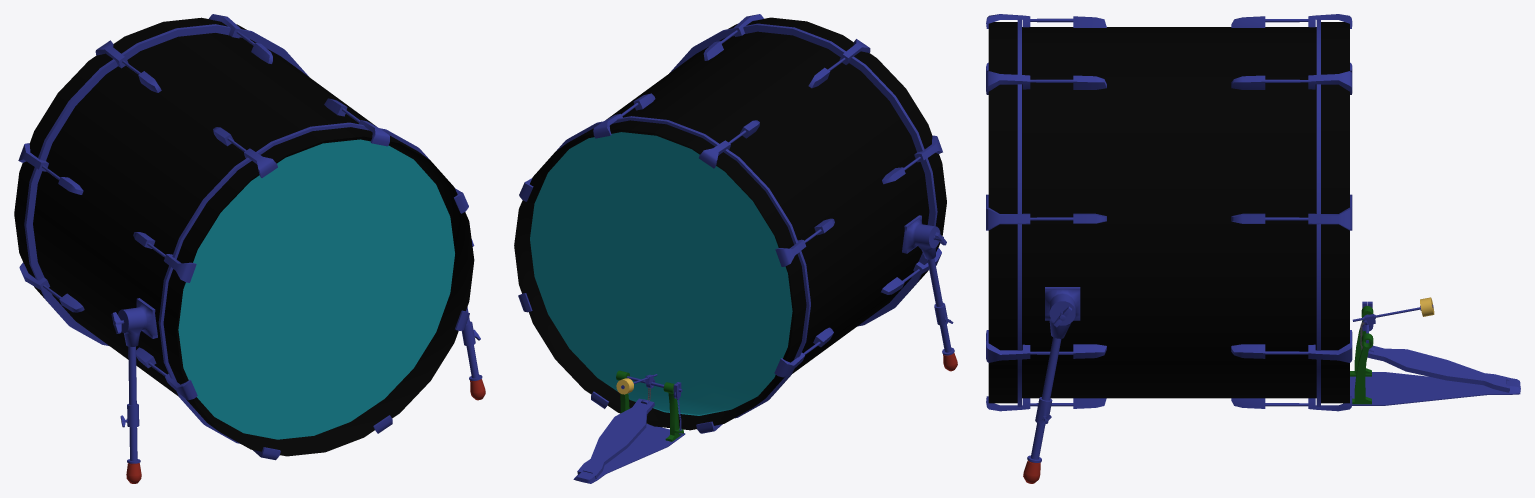
Rendered from bass_drum_FBX_Unreal.fbx.
3 renders of one model, left to right at view 1: azimuth 30°, elevation 25°; view 2: azimuth 150°, elevation 25°; view 3: azimuth 270°, elevation 25°, orthographic. The views are drawn at different scales.
Parts seen in each view (by area): view 1: bass_drum_LOW; view 2: bass_drum_LOW; view 3: bass_drum_LOW.
Part boxes in pixels (bbox=[...]): bass_drum_LOW: bbox=[14, 14, 485, 483]; bass_drum_LOW: bbox=[514, 14, 957, 483]; bass_drum_LOW: bbox=[986, 14, 1520, 483].
Bounding box in the file's own units: 71.52 × 60.64 × 83.1.
